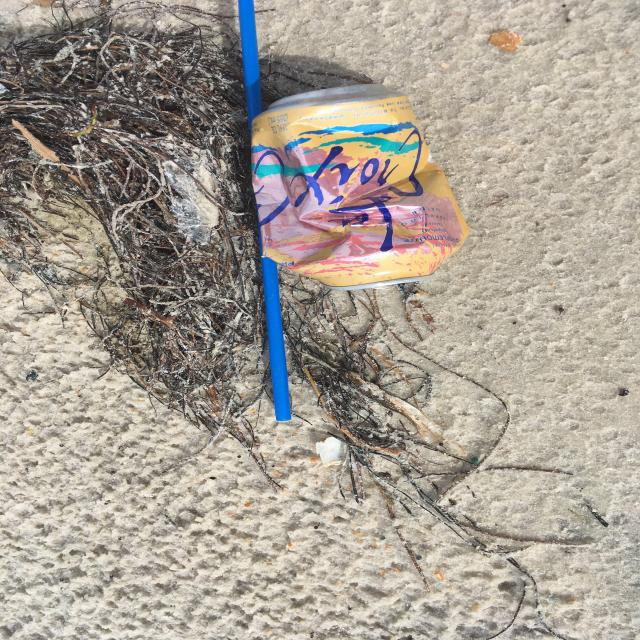litter: (253, 90, 453, 279)
